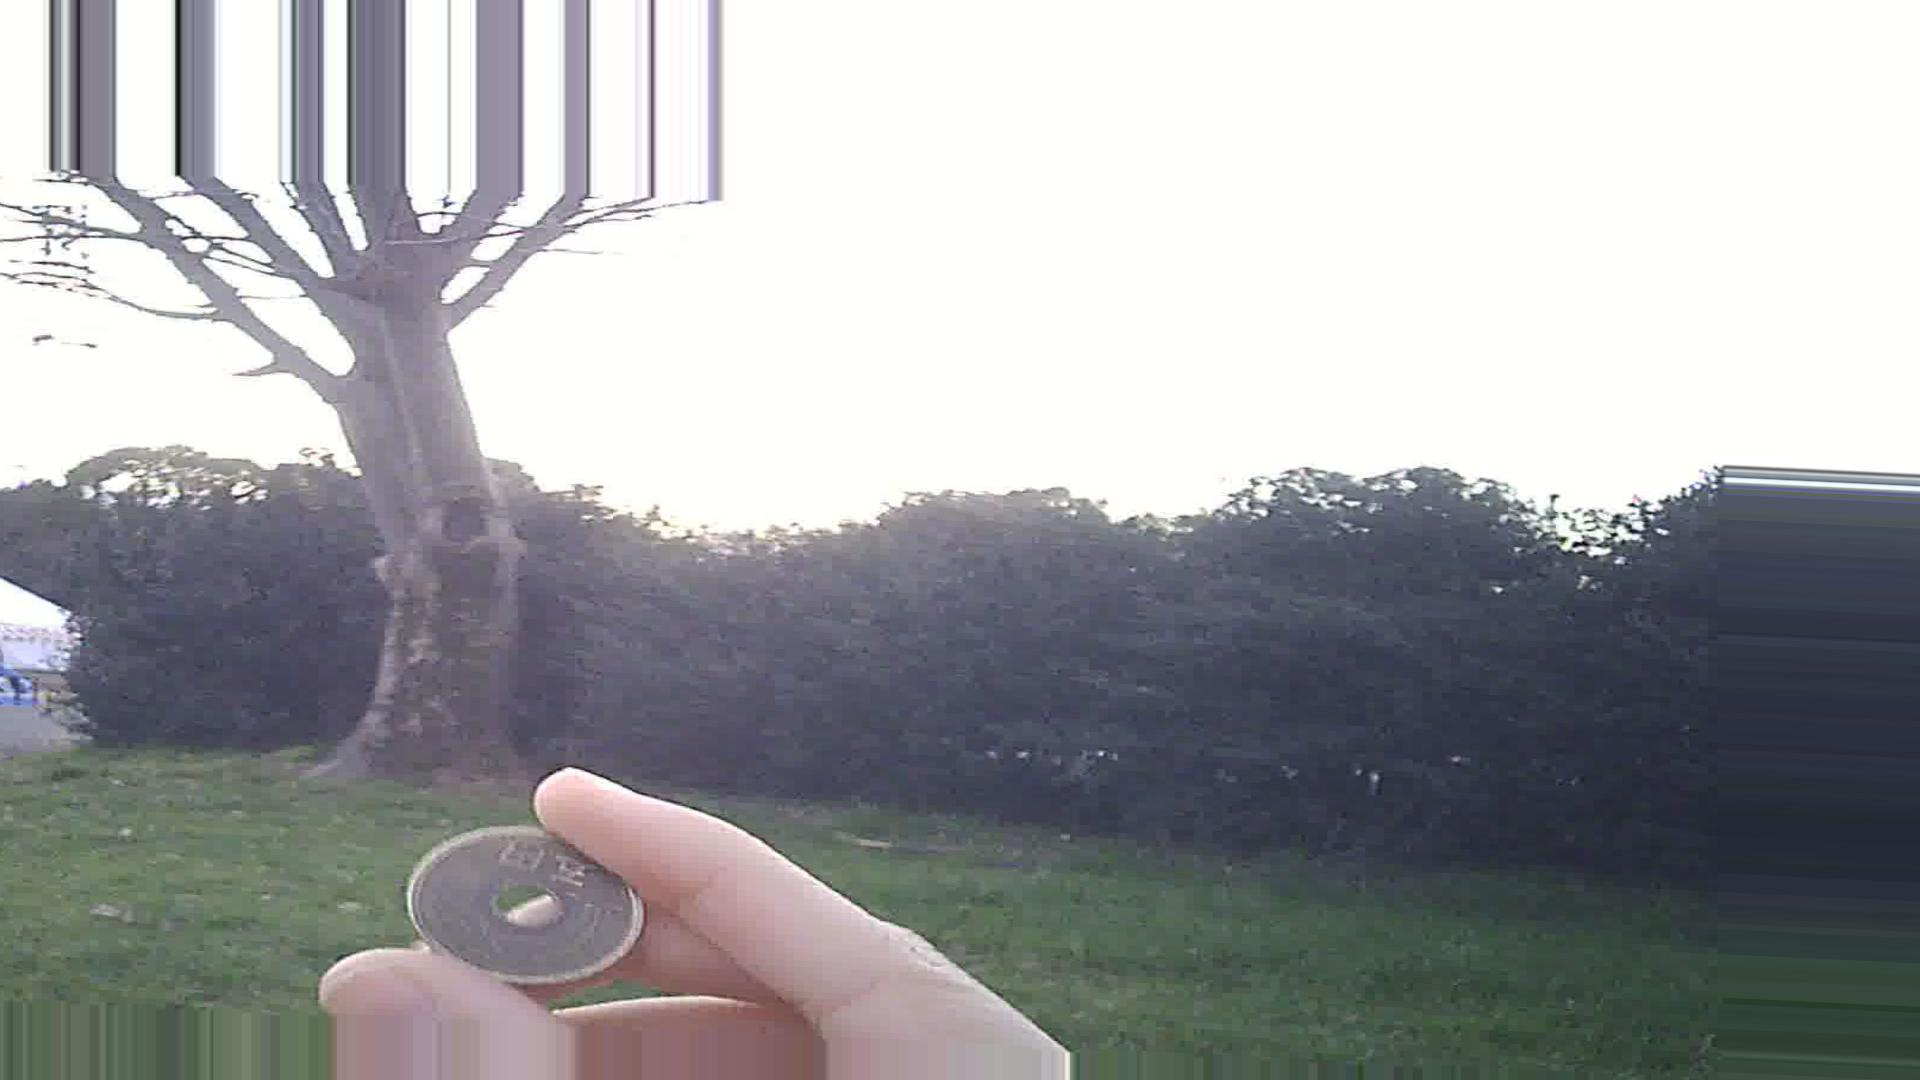5 Yen: (393, 824, 662, 982)
